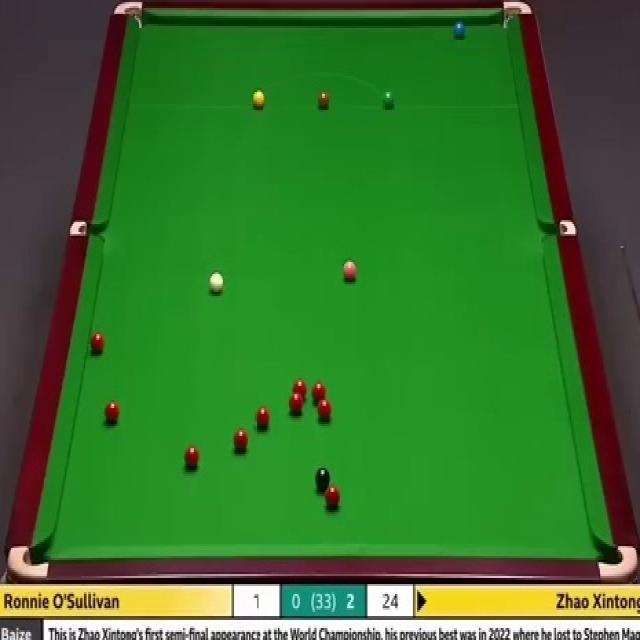black-ball: (314, 466, 331, 495)
blue-ball: (452, 18, 468, 43)
brown-ball: (317, 91, 331, 111)
green-ball: (382, 90, 396, 112)
pink-ball: (342, 258, 358, 284)
red-ball: (102, 397, 120, 427), (232, 429, 250, 456), (183, 444, 200, 472), (325, 485, 341, 512), (256, 408, 272, 432), (288, 393, 304, 416), (89, 331, 104, 355), (291, 379, 308, 400), (317, 398, 332, 420), (311, 382, 327, 402)
white-ball: (206, 269, 226, 297)
yellow-ball: (252, 90, 266, 110)
